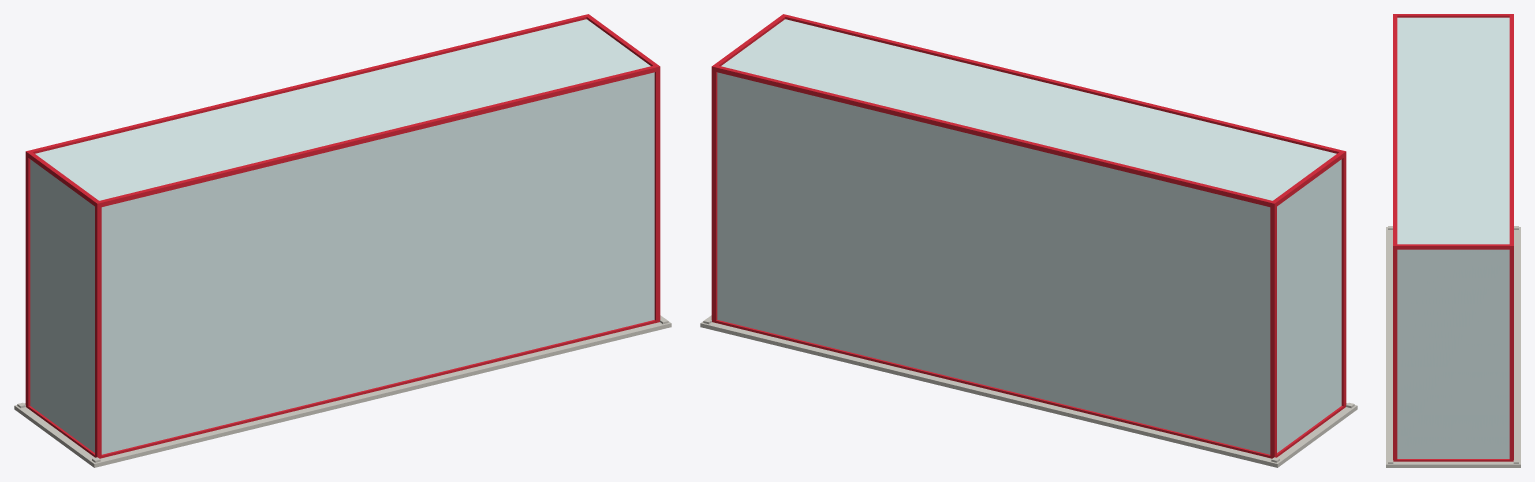
File: btr-4-bucephalus.glb
3 renders of one model, left to right at view 1: azimuth 30°, elevation 25°; view 2: azimuth 150°, elevation 25°; view 3: azimuth 270°, elevation 25°, orthographic. The views are drawn at different scales.
Size of the model in its own units: 0.93 by 0.3995 by 0.223.
